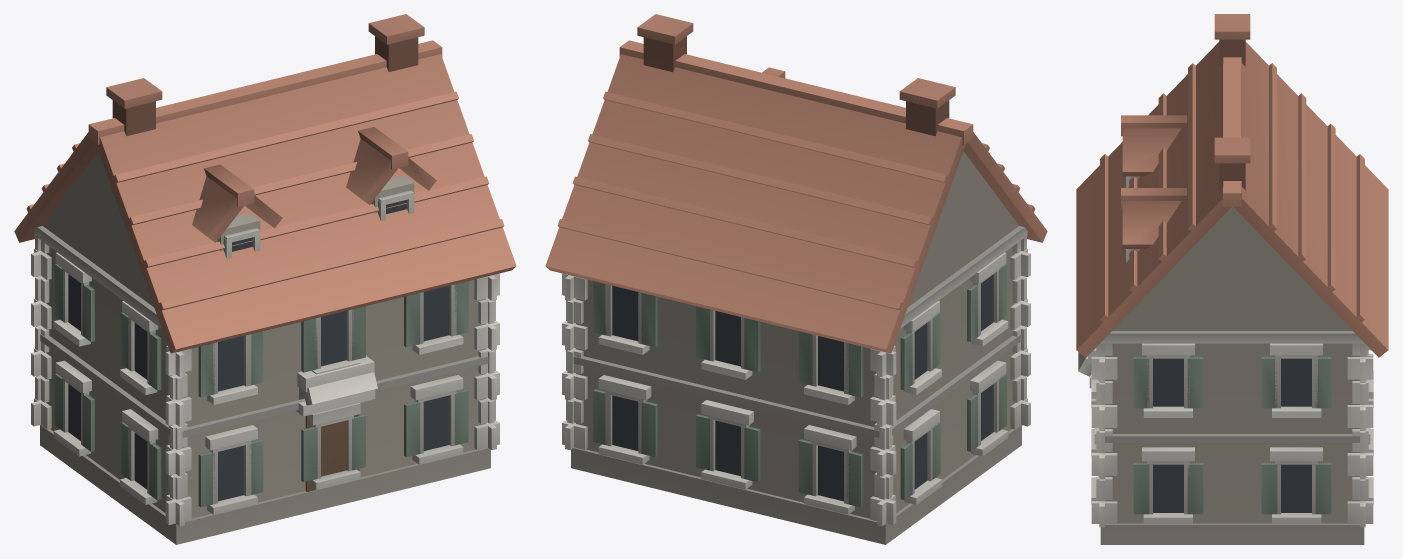
The model's file is house_early_0.glb.
The picture shows the model from 3 angles, left to right: view 1: azimuth 30°, elevation 25°; view 2: azimuth 150°, elevation 25°; view 3: azimuth 270°, elevation 25°; orthographic projection. The views are drawn at different scales.
Parts seen in each view (by area): view 1: Body_Roof, Body_Detail, Body_Wall; view 2: Body_Roof, Body_Detail, Body_Wall; view 3: Body_Roof, Body_Detail, Body_Wall.
Part boxes in pixels (left/top/right/bottom): Body_Roof: left=14, top=40, right=516, bottom=353; Body_Detail: left=31, top=14, right=499, bottom=544; Body_Wall: left=43, top=151, right=485, bottom=518; Body_Roof: left=545, top=40, right=1047, bottom=353; Body_Detail: left=562, top=14, right=1030, bottom=544; Body_Wall: left=576, top=151, right=1018, bottom=518; Body_Roof: left=1076, top=42, right=1388, bottom=357; Body_Detail: left=1078, top=14, right=1373, bottom=544; Body_Wall: left=1105, top=176, right=1359, bottom=523.
Size of the model in its own units: 1.05 by 1.16 by 0.8527.
